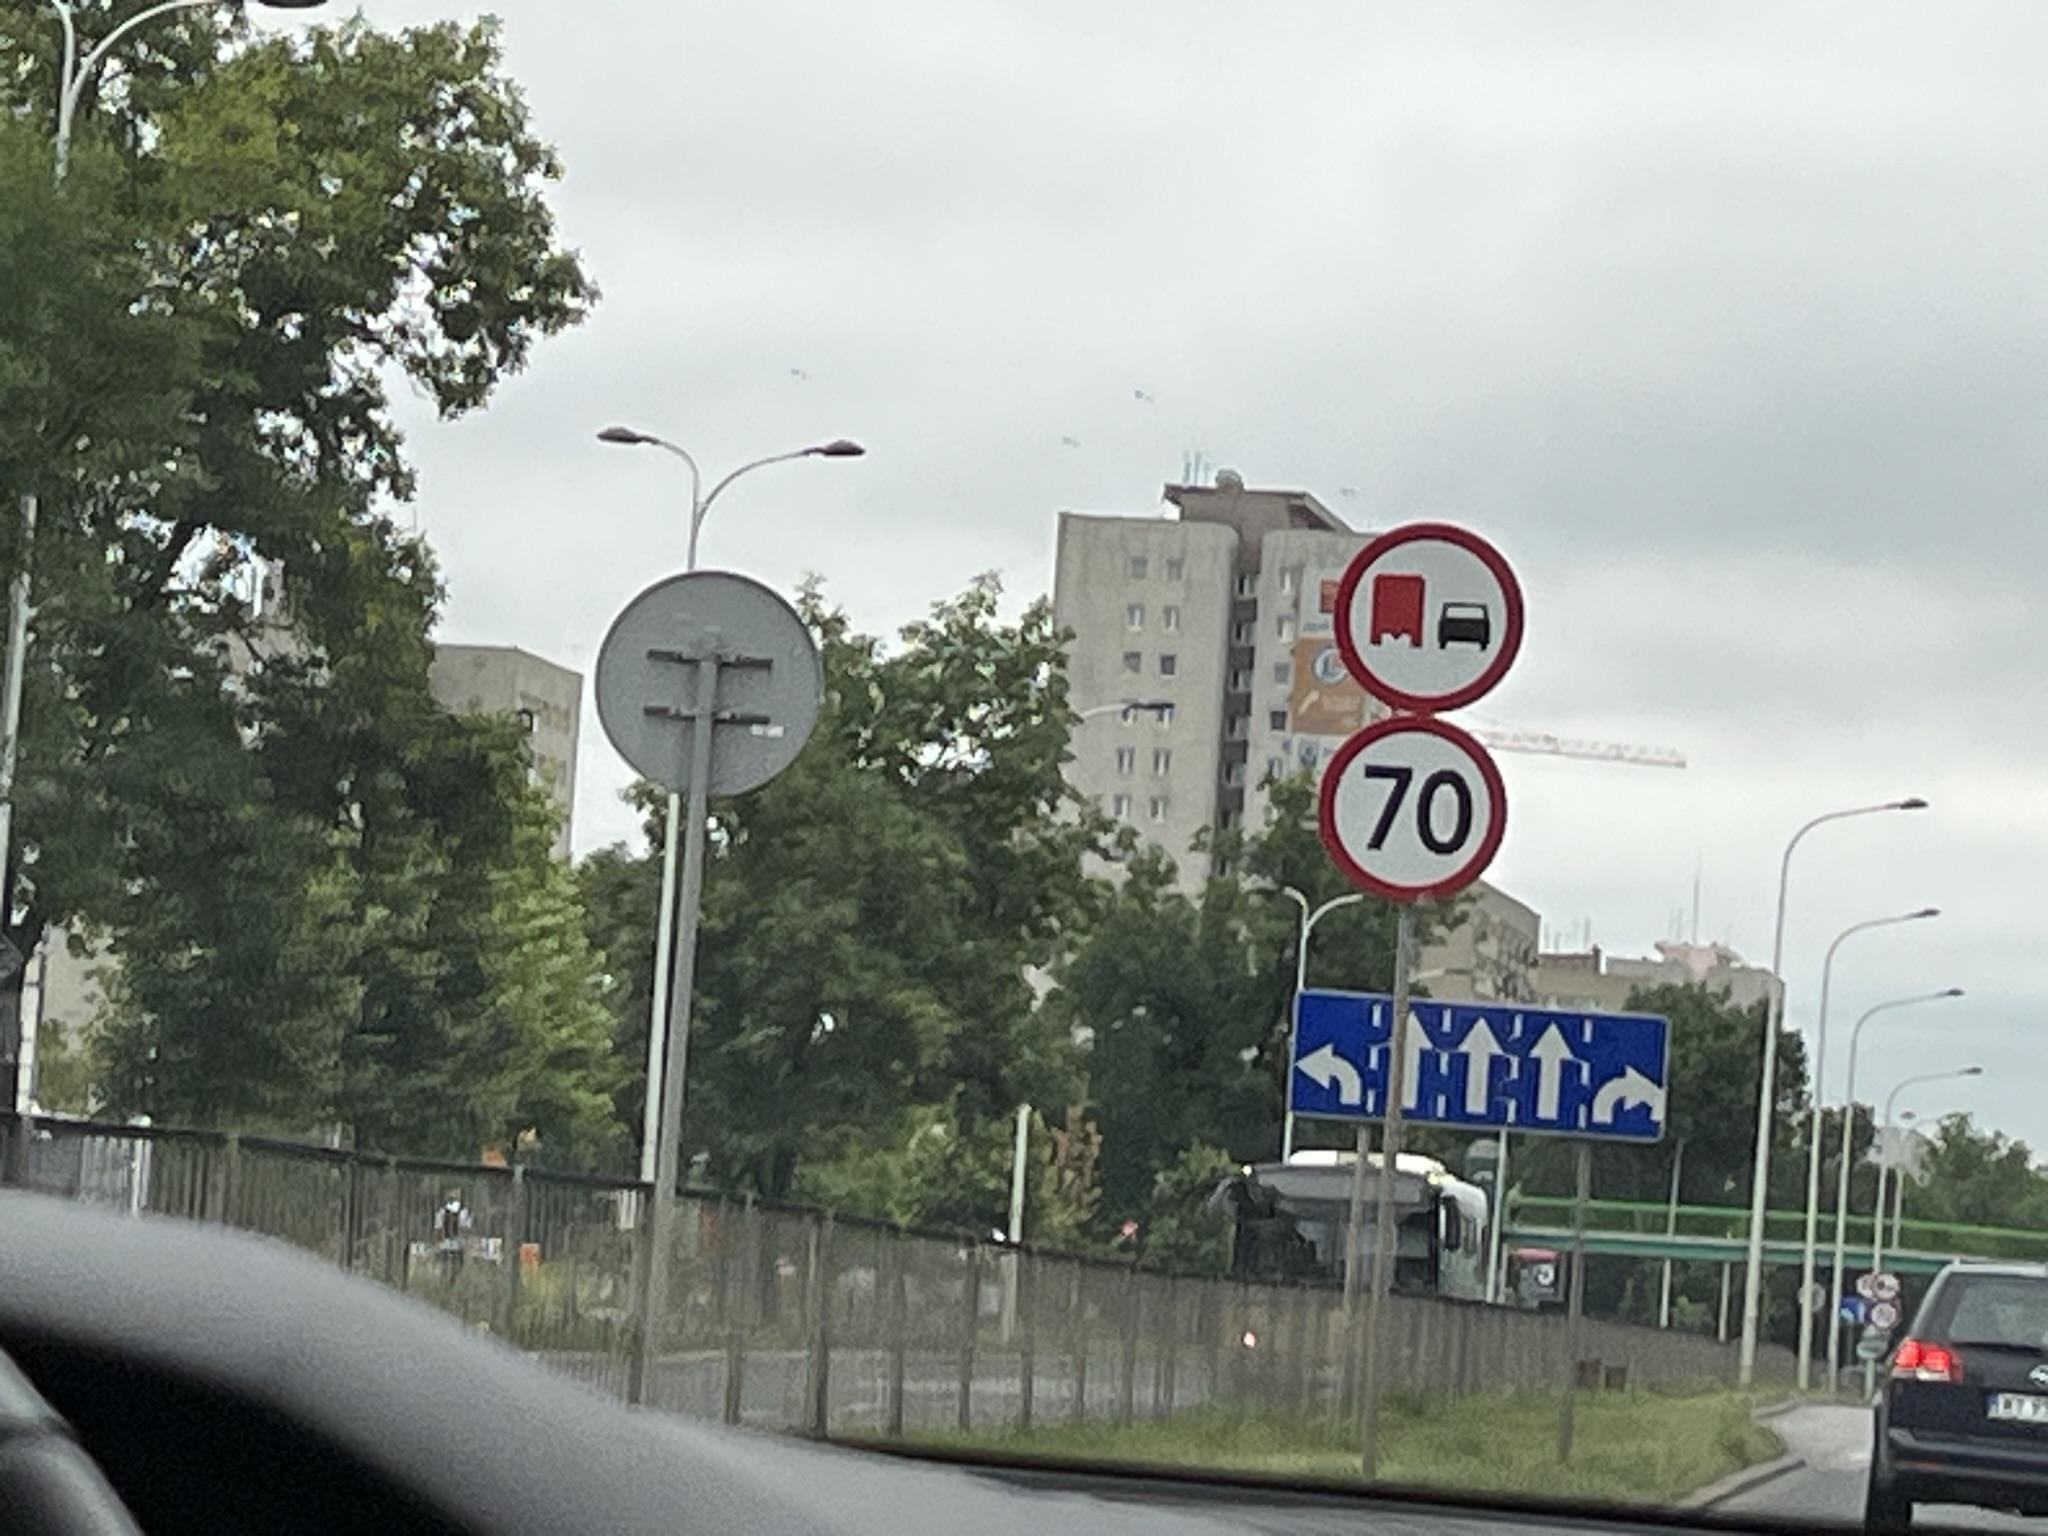other: (1285, 986, 1666, 1149)
prohibitory: (1332, 520, 1529, 716), (1317, 716, 1513, 904), (1869, 1304, 1900, 1331), (1872, 1275, 1901, 1300)
